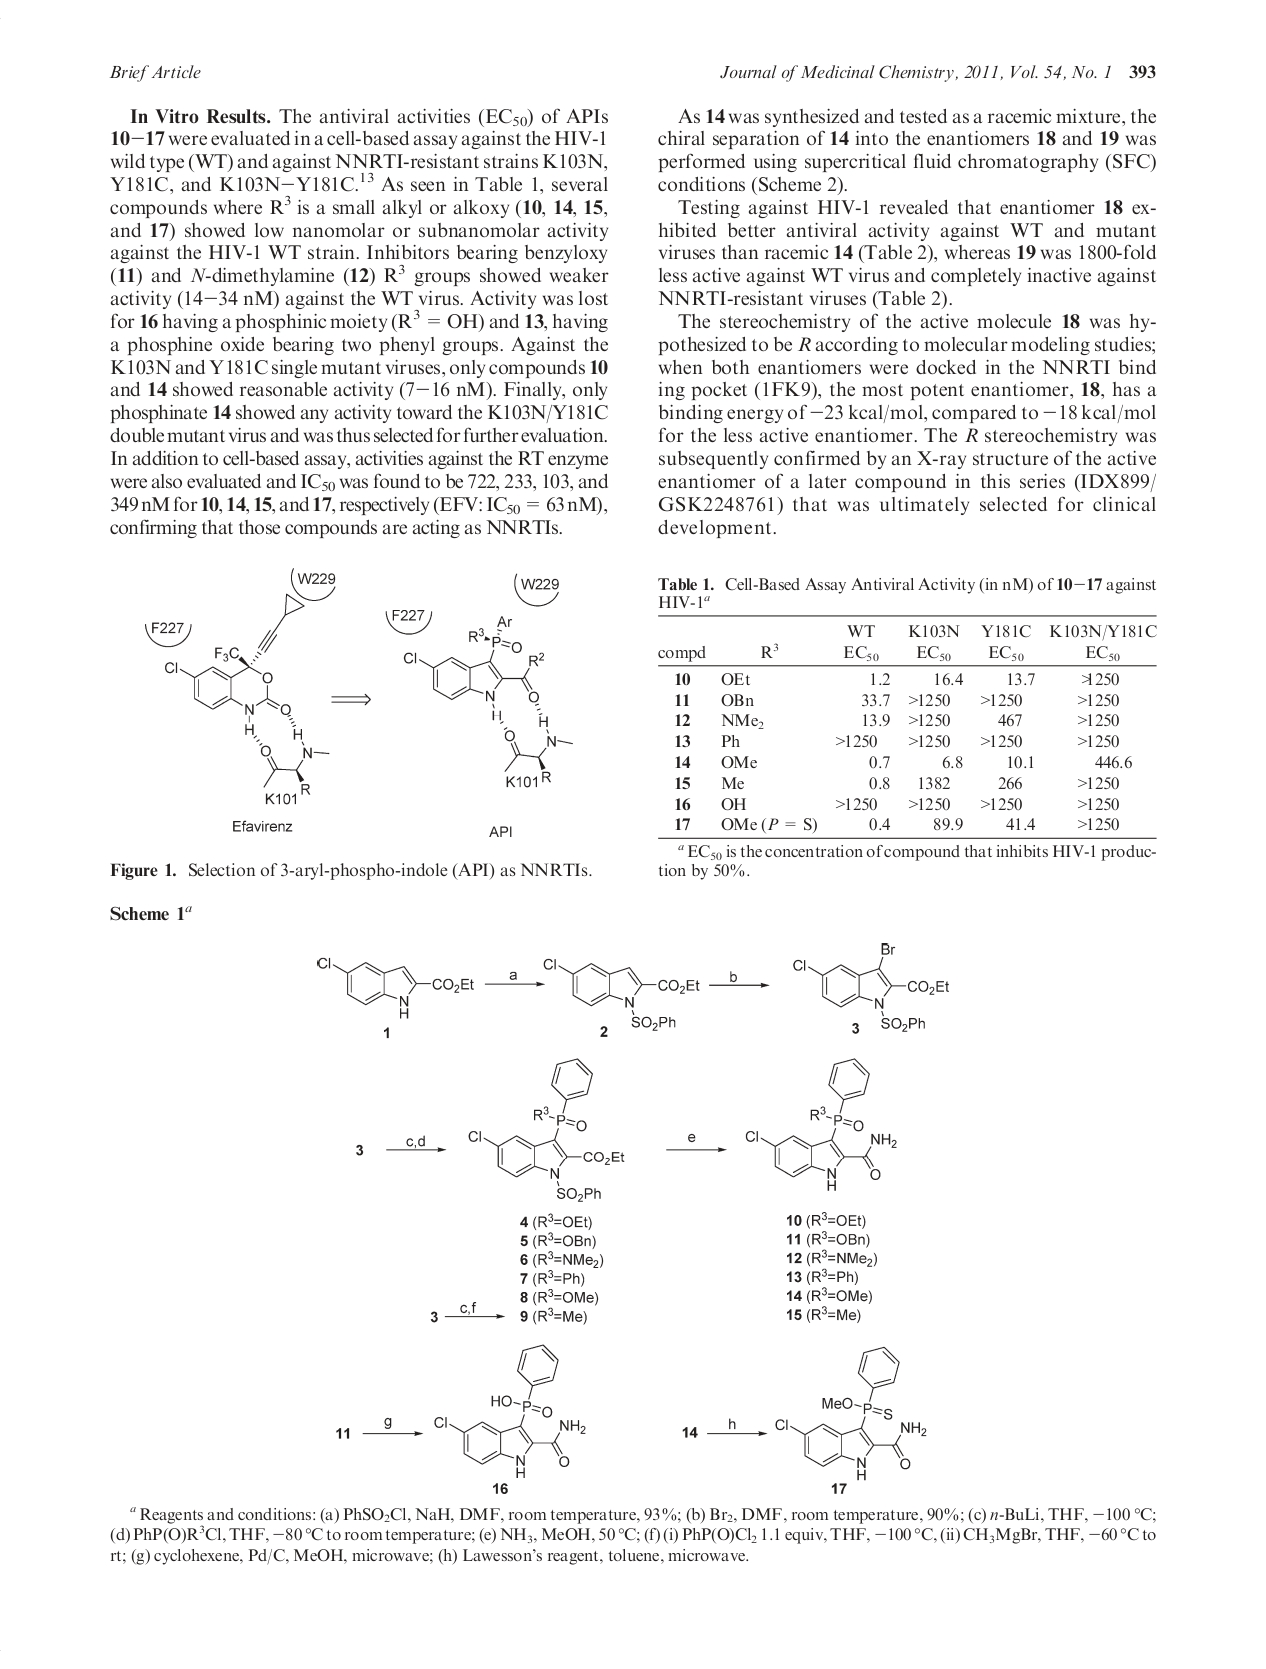exist_molecular: (164, 590, 335, 806), (402, 614, 582, 793), (467, 1052, 633, 1204), (738, 1051, 902, 1196), (769, 1339, 935, 1481), (430, 1338, 585, 1480), (789, 934, 949, 1031), (543, 950, 702, 1032), (306, 946, 479, 1020)
